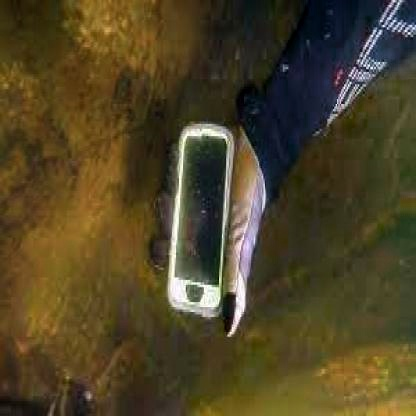cellphone: (168, 124, 237, 317)
